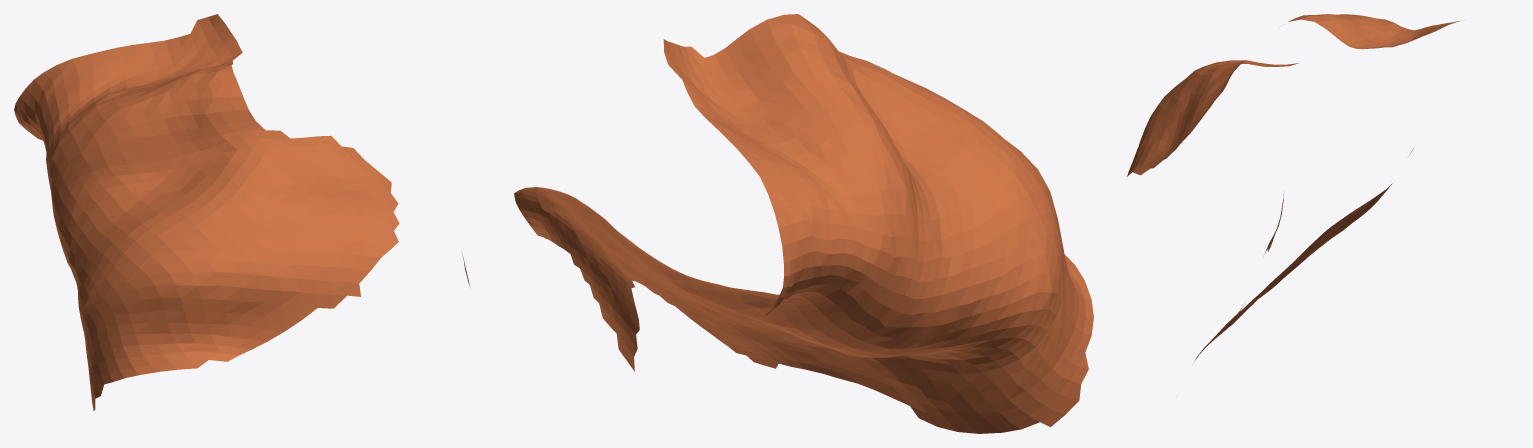
File: lh_parstriangularis.glb
3 renders of one model, left to right at view 1: azimuth 30°, elevation 25°; view 2: azimuth 150°, elevation 25°; view 3: azimuth 270°, elevation 25°, orthographic. The views are drawn at different scales.
Visible parts, largest first — view 1: world; view 2: world; view 3: world.
Boxes of the visible parts, box(x1,y1,x2,y2) form: world: box(14, 14, 470, 410); world: box(514, 14, 1093, 433); world: box(1127, 14, 1461, 361).
Bounding box in the file's own units: 25.83 × 23.44 × 24.52.
